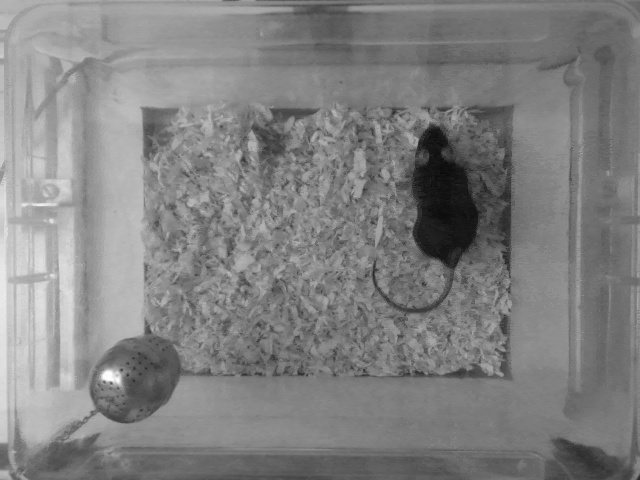mice: (368, 114, 482, 315)
